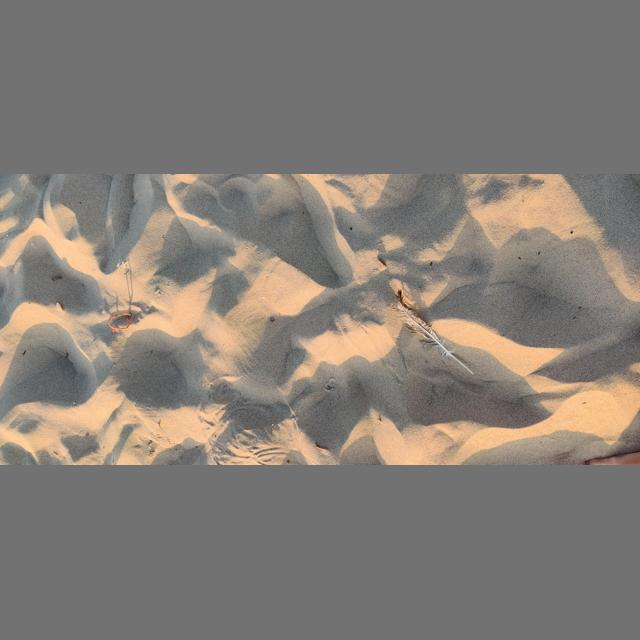litter: (108, 313, 131, 333)
